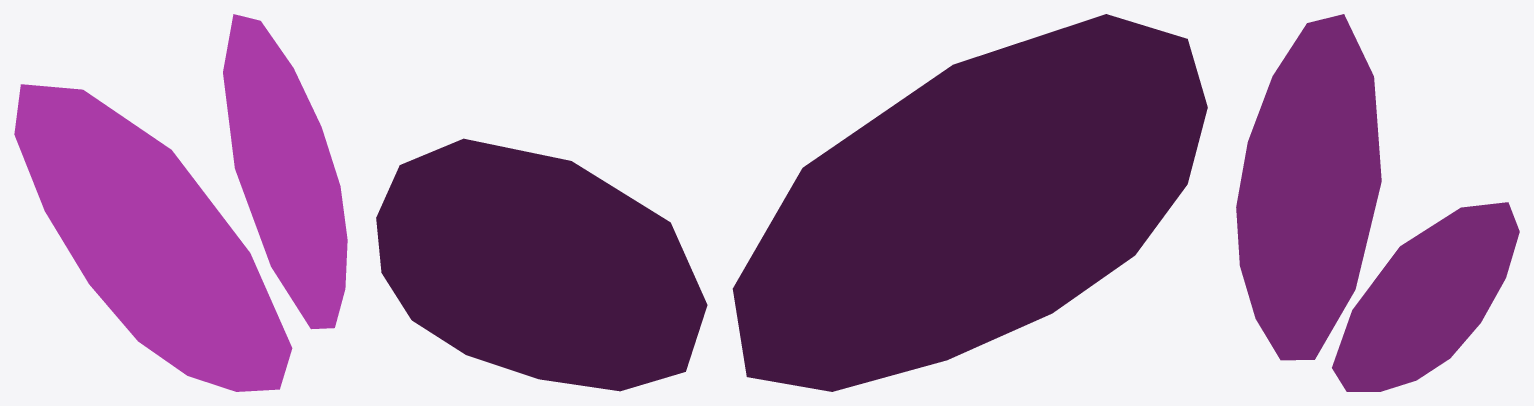
The model's file is pink_frower1.fbx.
The picture shows the model from 3 angles, left to right: view 1: azimuth 30°, elevation 25°; view 2: azimuth 150°, elevation 25°; view 3: azimuth 270°, elevation 25°; orthographic projection. The views are drawn at different scales.
Visible parts, largest first — view 1: frower_pink; view 2: frower_pink; view 3: frower_pink.
Boxes of the visible parts, x1,y1,x2,y2 form: frower_pink: [14, 14, 347, 391]; frower_pink: [376, 14, 1207, 391]; frower_pink: [1236, 14, 1519, 391].
Bounding box in the file's own units: 23.07 × 17.42 × 17.13.
